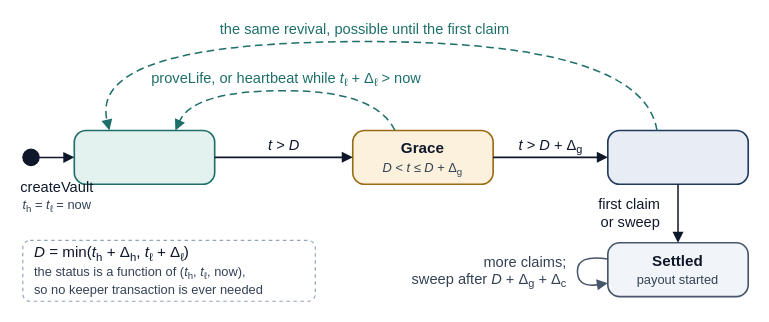
This 769x322 diagram has some shape labels left out. Each missing label, with the centre of its shape:
"Alive t ≤ D" goes at point (144, 157).
"Claimable t > D + Δ g" goes at point (677, 157).
